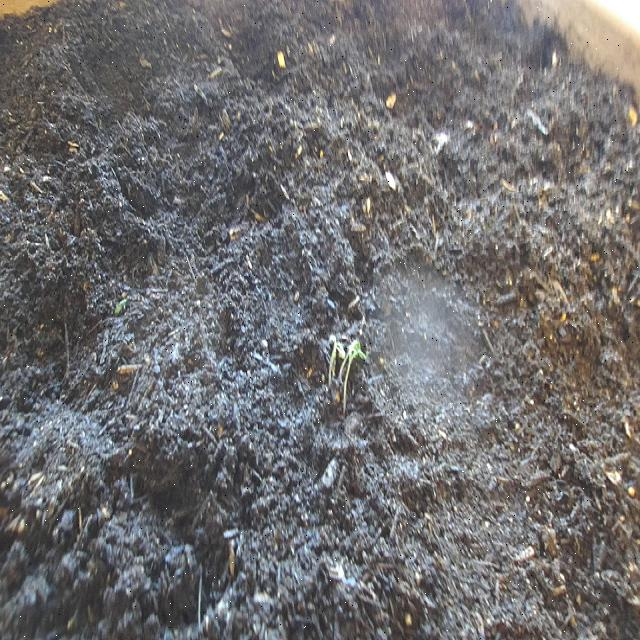Healthy: (325, 324, 370, 418)
